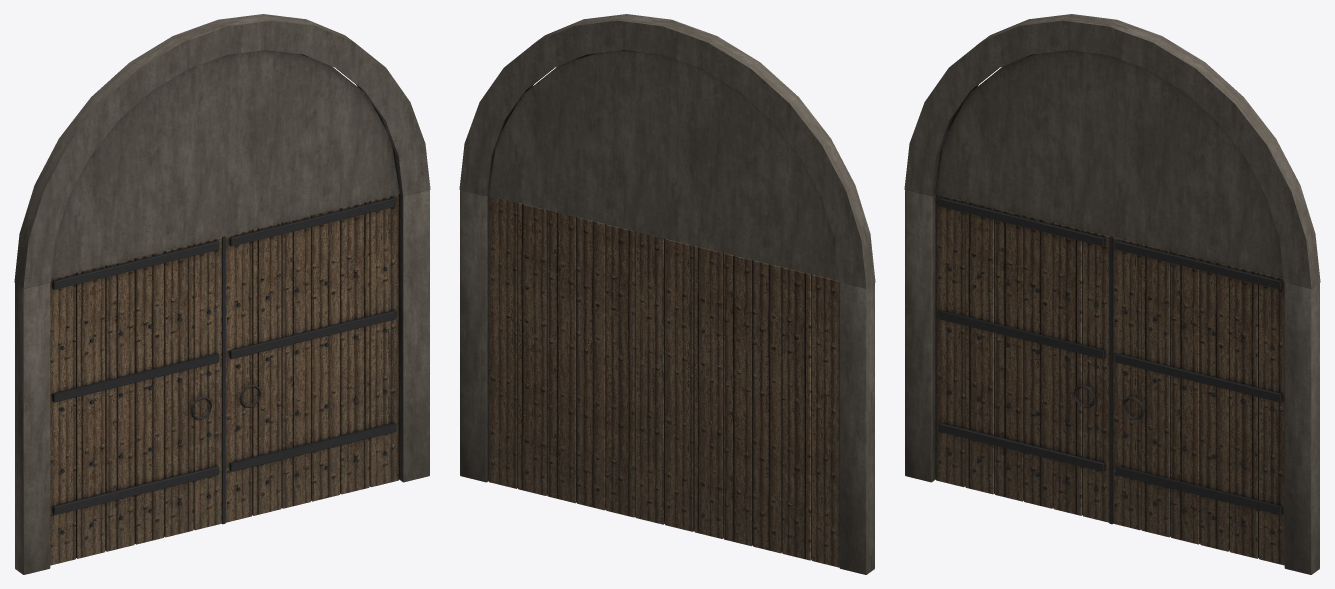
Rendered from door_church.glb.
3 views of the same model, side by side, from view 1: azimuth 30°, elevation 25°; view 2: azimuth 150°, elevation 25°; view 3: azimuth 330°, elevation 25° (orthographic).
Parts seen in each view (by area): view 1: door_church; view 2: door_church; view 3: door_church.
Boxes of the visible parts, bbox=[...] form: door_church: bbox=[14, 14, 430, 574]; door_church: bbox=[459, 14, 875, 574]; door_church: bbox=[904, 14, 1320, 574].
Size of the model in its own units: 4.16 by 4.88 by 0.16.
Materials: 1 (1 with a texture image).
